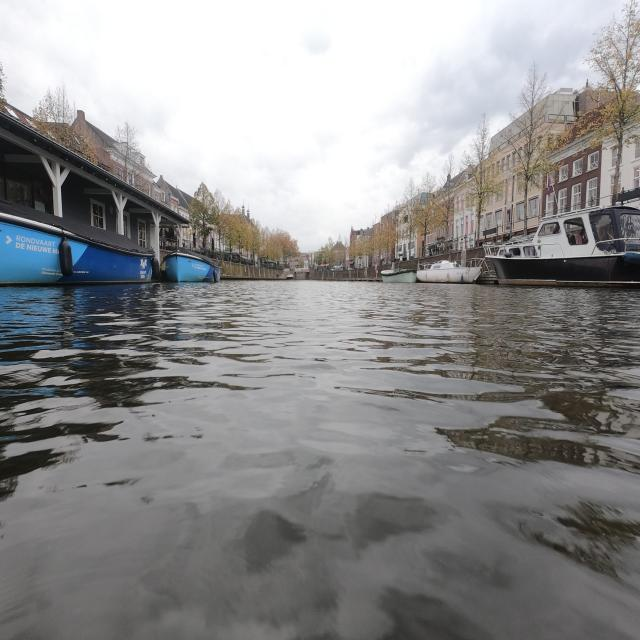boat: (484, 206, 640, 287), (0, 213, 153, 284), (166, 250, 218, 282), (418, 262, 480, 284), (381, 269, 416, 283)
sky: (12, 4, 618, 248)
water: (6, 292, 638, 634)
